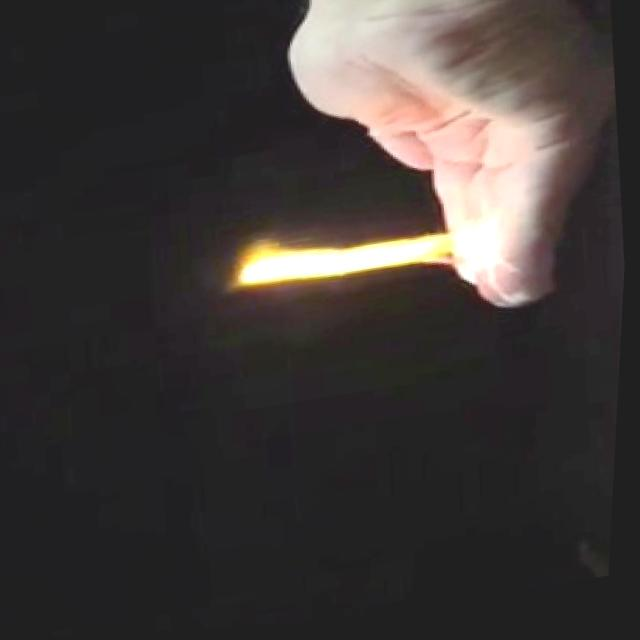helmet: (223, 200, 511, 313)
